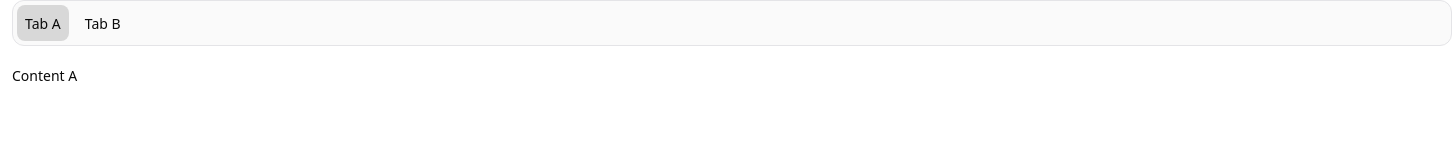
it: Tabs › rendering › renders default tab and switches on click
Expected: the text "Content A" is shown, x1=12 y1=66 x2=77 y2=85
Expected: the text "Content B" is not shown
Click the tab "Tab B": (103, 23) x1=77 y1=5 x2=129 y2=41
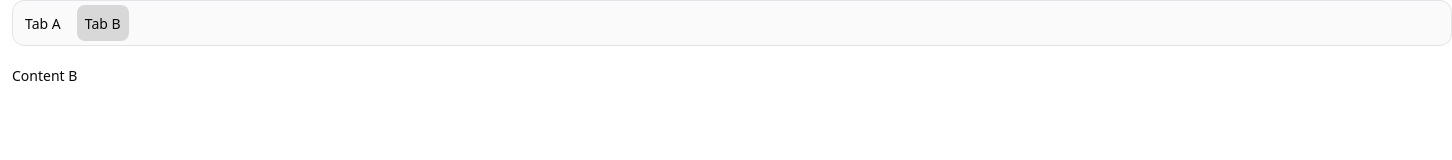
Expected: the text "Content B" is shown, x1=12 y1=66 x2=77 y2=85
Expected: the text "Content A" is gone
